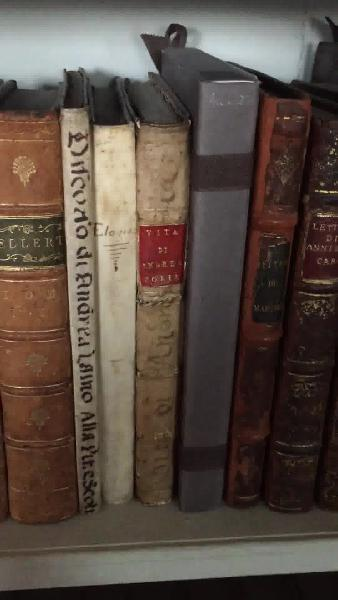Aa6-24: (60, 101, 107, 510)
Aa6-25: (92, 119, 139, 513)
Aa6-26: (136, 120, 192, 505)
Aa6-27: (179, 65, 253, 511)
Aa6-28: (225, 73, 294, 522)
Aa6-29: (268, 83, 335, 523)
